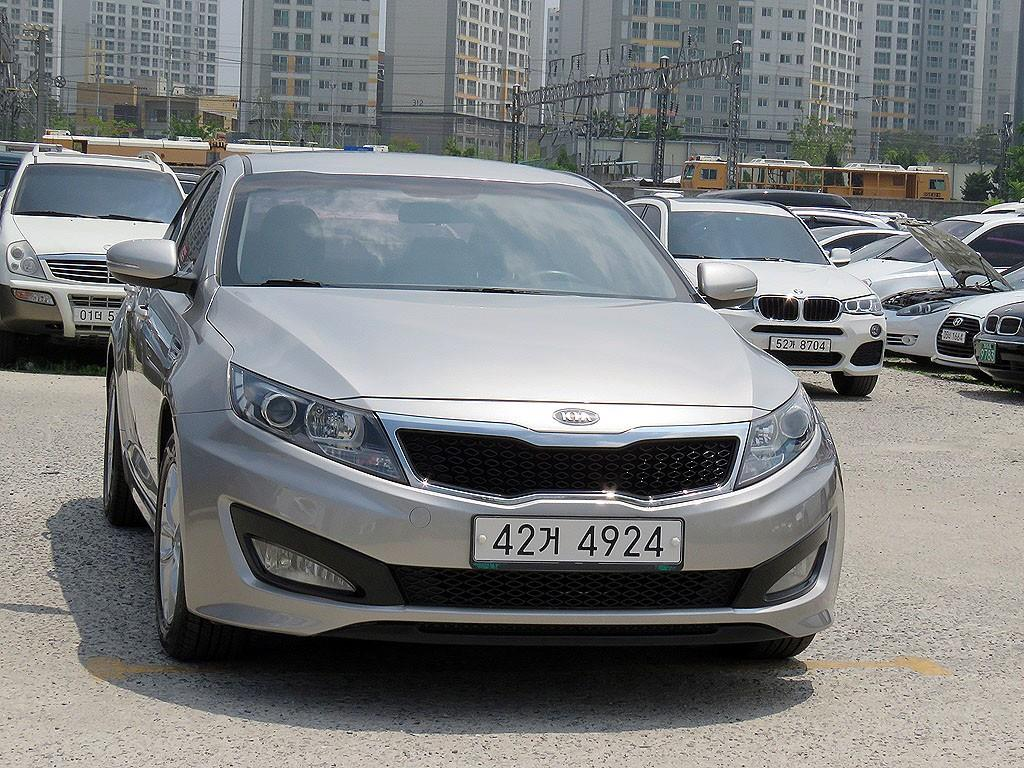plate: (473, 516, 681, 563)
